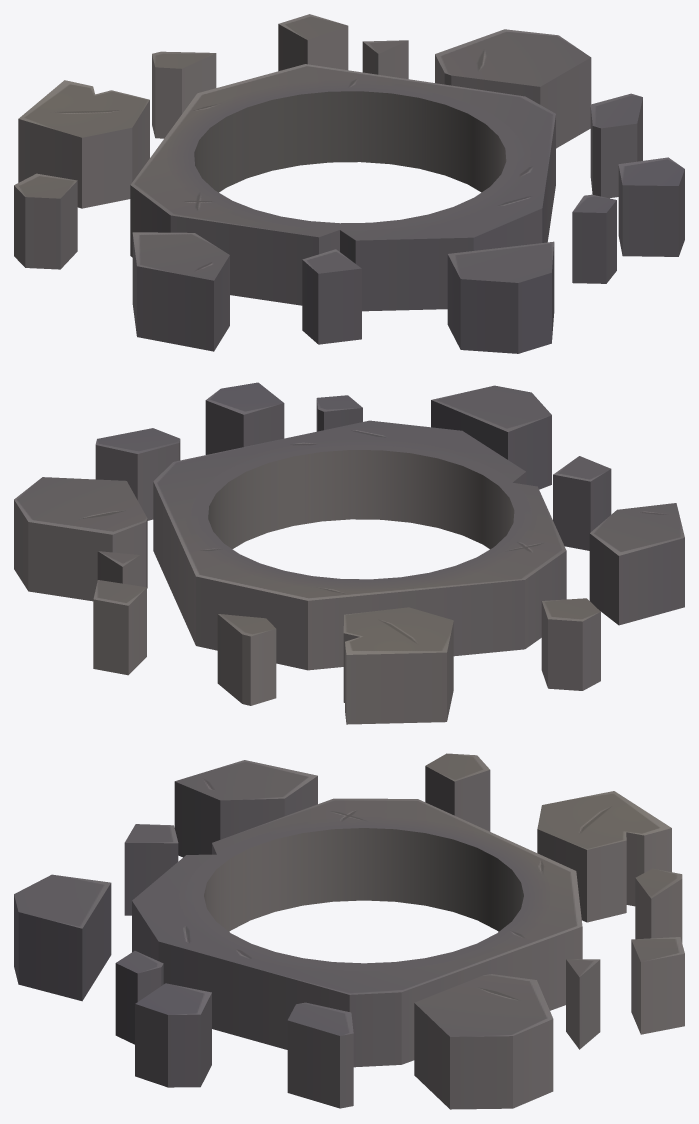
Rendered from Asteroids.FBX.
3 views of the same model, one above another, from view 1: azimuth 30°, elevation 25°; view 2: azimuth 150°, elevation 25°; view 3: azimuth 270°, elevation 25° (orthographic). The views are drawn at different scales.
Visible parts, largest first — view 1: Asteroids; view 2: Asteroids; view 3: Asteroids.
Boxes of the visible parts, x1,y1,x2,y2 form: Asteroids: (14, 14, 684, 353); Asteroids: (14, 382, 684, 724); Asteroids: (14, 753, 684, 1109).
Bounding box in the file's own units: 58.64 × 7 × 58.66.
1 material, 1 textured.
